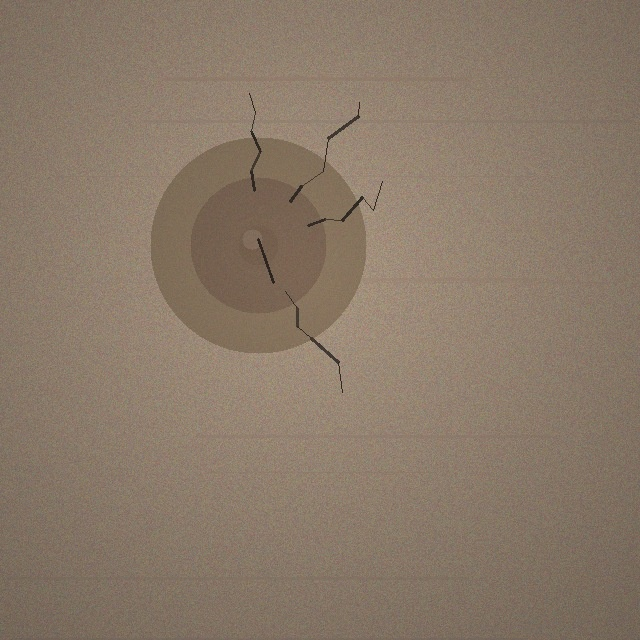crack: (150, 137, 366, 353)
